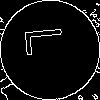L: (25, 25, 73, 57)
